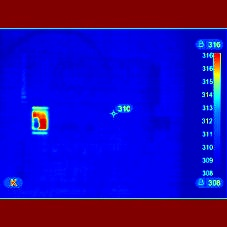Less: (33, 119, 40, 128)
